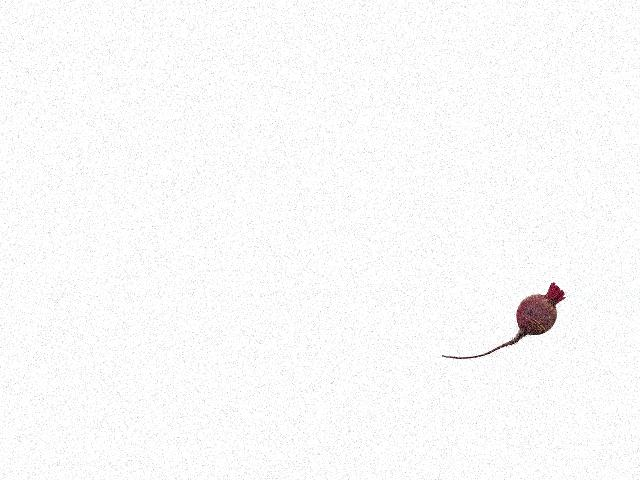beet: (440, 282, 564, 359)
